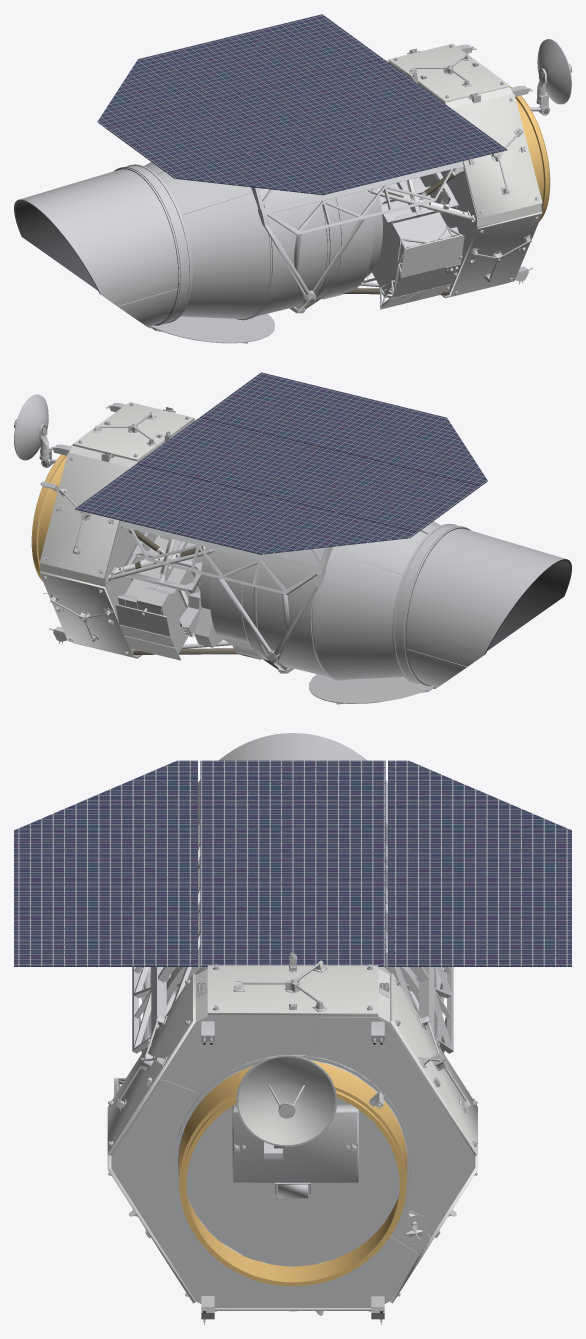
Rendered from roman.glb.
3 renders of one model, top to bottom at view 1: azimuth 30°, elevation 25°; view 2: azimuth 150°, elevation 25°; view 3: azimuth 270°, elevation 25°, orthographic. The views are drawn at different scales.
Visible parts, largest first — view 1: afta2015-maintube; view 2: afta2015-maintube; view 3: afta2015-maintube.
Boxes of the visible parts, bbox=[...] form: afta2015-maintube: bbox=[14, 14, 571, 343]; afta2015-maintube: bbox=[14, 372, 571, 704]; afta2015-maintube: bbox=[14, 733, 571, 1324].
Bounding box in the file's own units: 12.7 × 4.81 × 7.64.
Materials: 10 (1 with a texture image).
